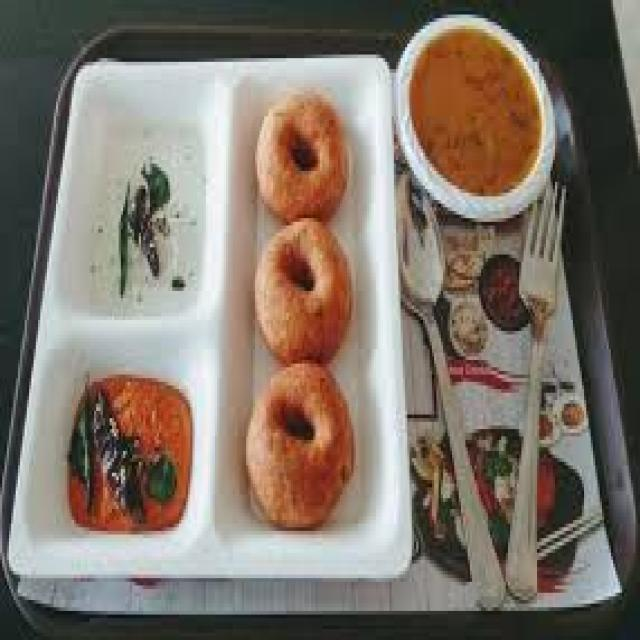MEDU VADA: (248, 364, 354, 524), (255, 218, 349, 360), (257, 91, 347, 218)
